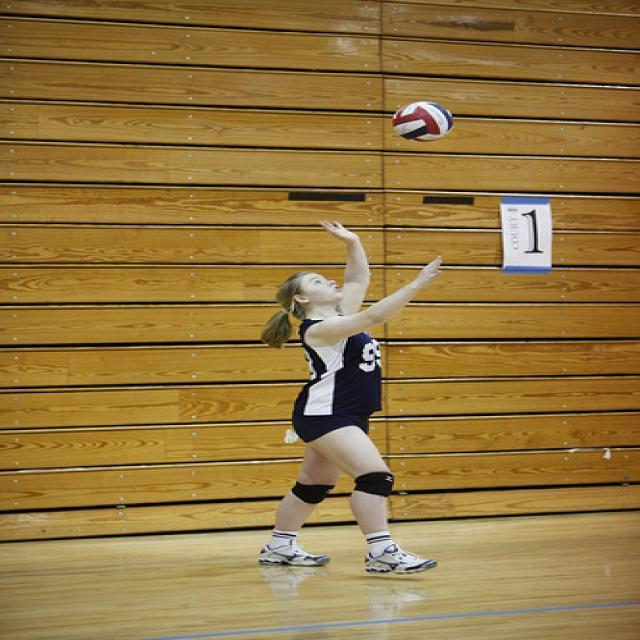volleyball: (392, 99, 452, 144)
